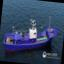fishing boat: (2, 10, 60, 58)
